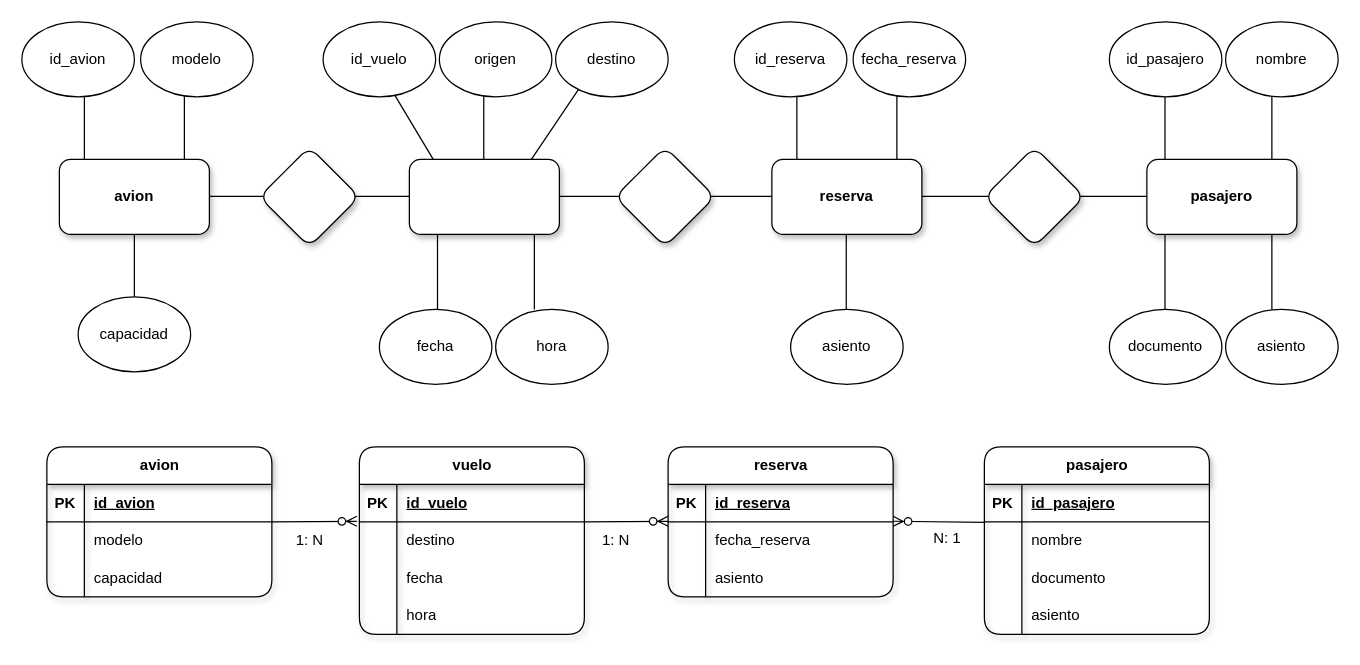
Some shapes in this 1360 by 665 pixel diagram are drawn without their labels. The shapes that lost their labels are listed below. From the top down, each one's centre as x and y in pixels, then its label:
At point (310, 198): "opera".
At point (485, 198): "vuelos".
At point (665, 198): "el cual".
At point (1035, 198): "el".
